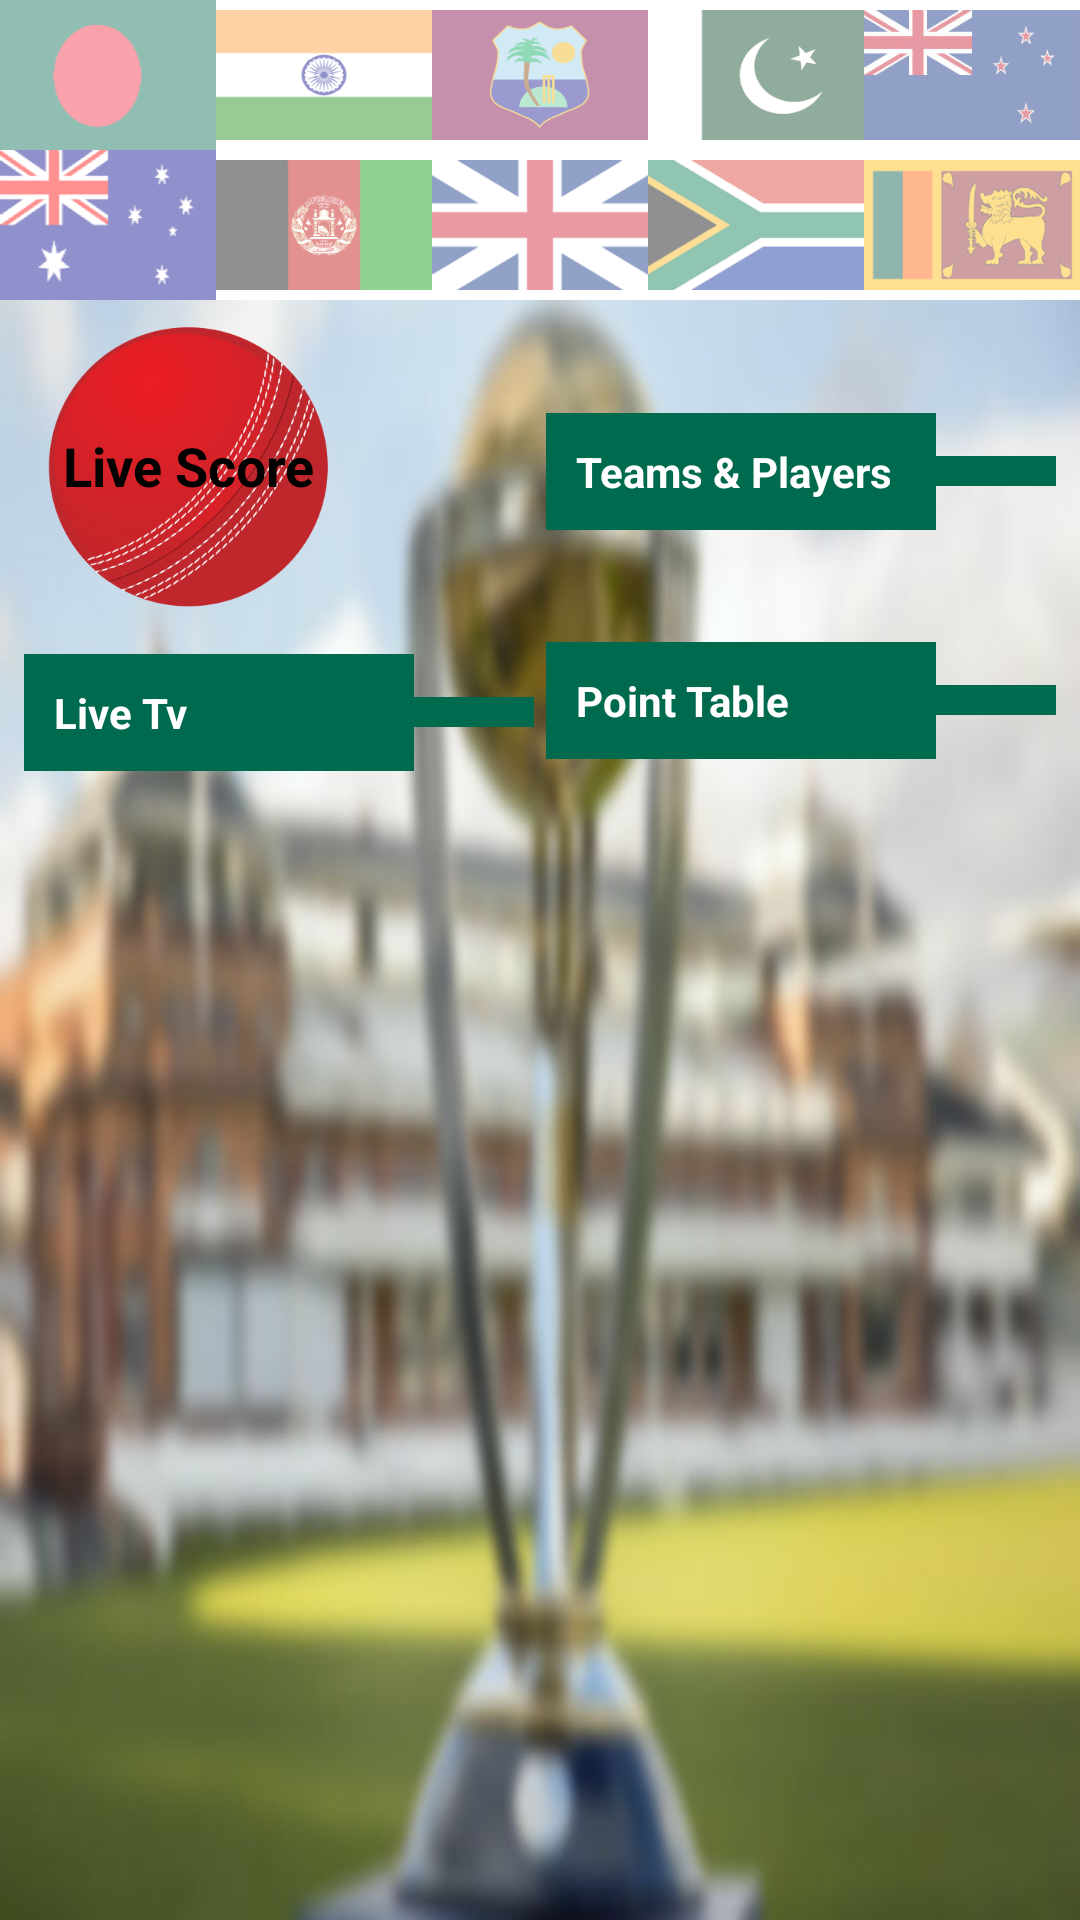

Where to tap for icons on this 1080px×1920px app screen, as (x=x, y=y):
afg: (x=324, y=225)
aus: (x=108, y=225)
ball: (x=201, y=465)
ban: (x=108, y=75)
eng: (x=540, y=225)
india: (x=324, y=75)
pak: (x=756, y=75)
south: (x=756, y=225)
sri: (x=972, y=225)
